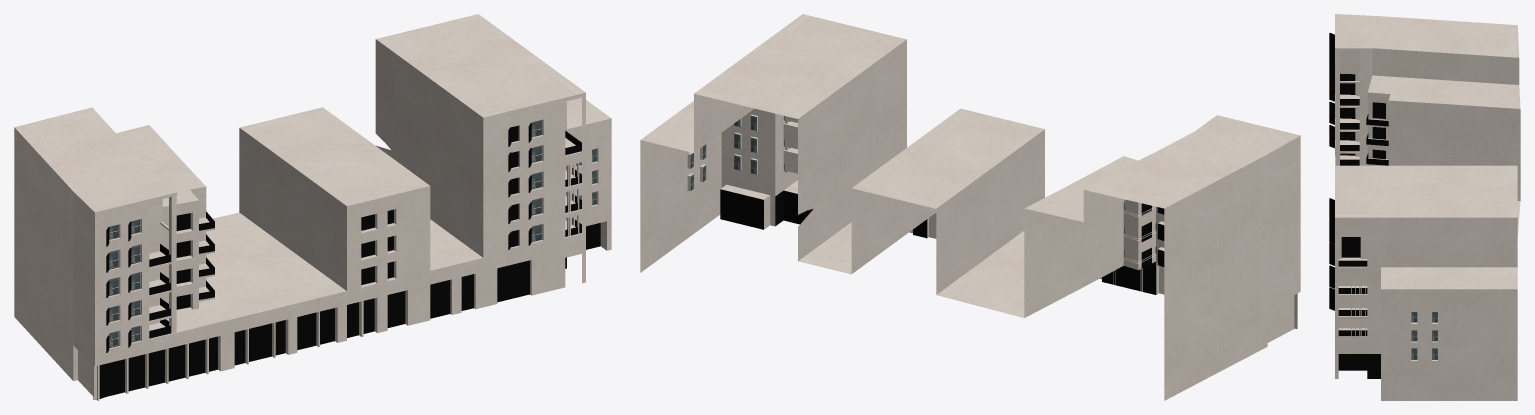
Rendered from SM_Building_05.fbx.
The picture shows the model from 3 angles, left to right: view 1: azimuth 30°, elevation 25°; view 2: azimuth 150°, elevation 25°; view 3: azimuth 270°, elevation 25°; orthographic projection. The views are drawn at different scales.
Parts seen in each view (by area): view 1: SM_Building_05; view 2: SM_Building_05; view 3: SM_Building_05.
Boxes of the visible parts, x1,y1,x2,y2 form: SM_Building_05: (14,14,611,400); SM_Building_05: (640,14,1300,400); SM_Building_05: (1329,14,1520,400).
Bounding box in the file's own units: 81.3 × 27.11 × 29.08.
